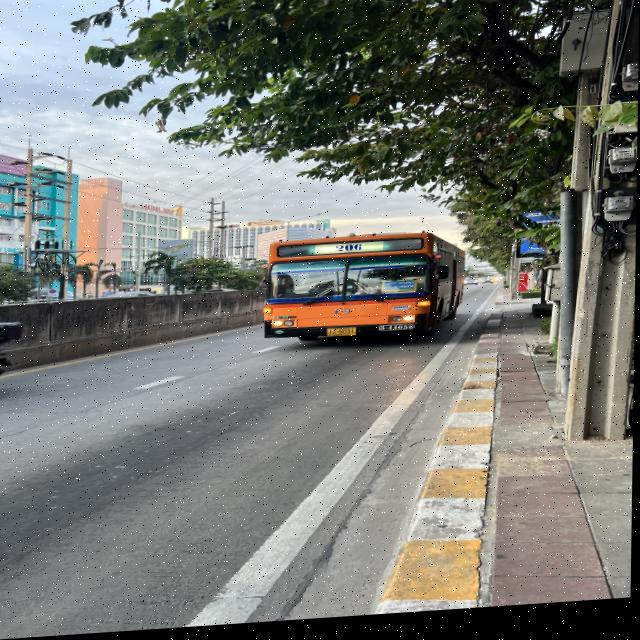BMTA-bus: (262, 237, 468, 349)
Bus Line Number: (329, 246, 369, 261)
Bus Side Number: (379, 328, 417, 338)
Destination Sign: (382, 285, 417, 299)
